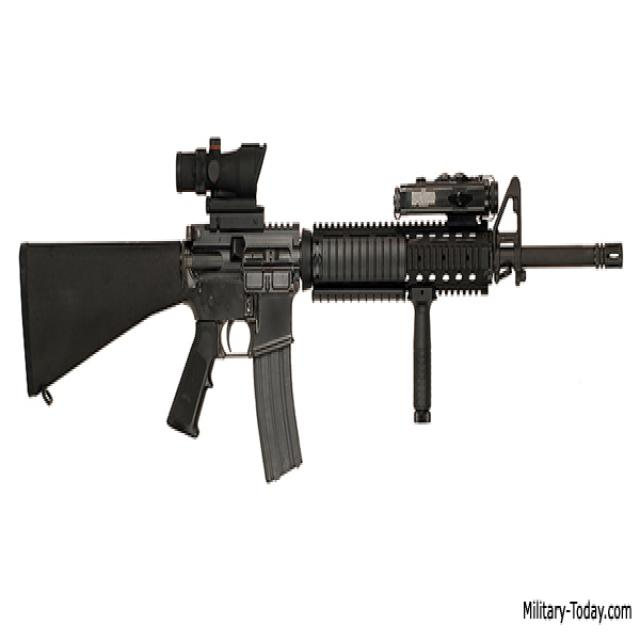Rifle: (22, 137, 624, 484)
